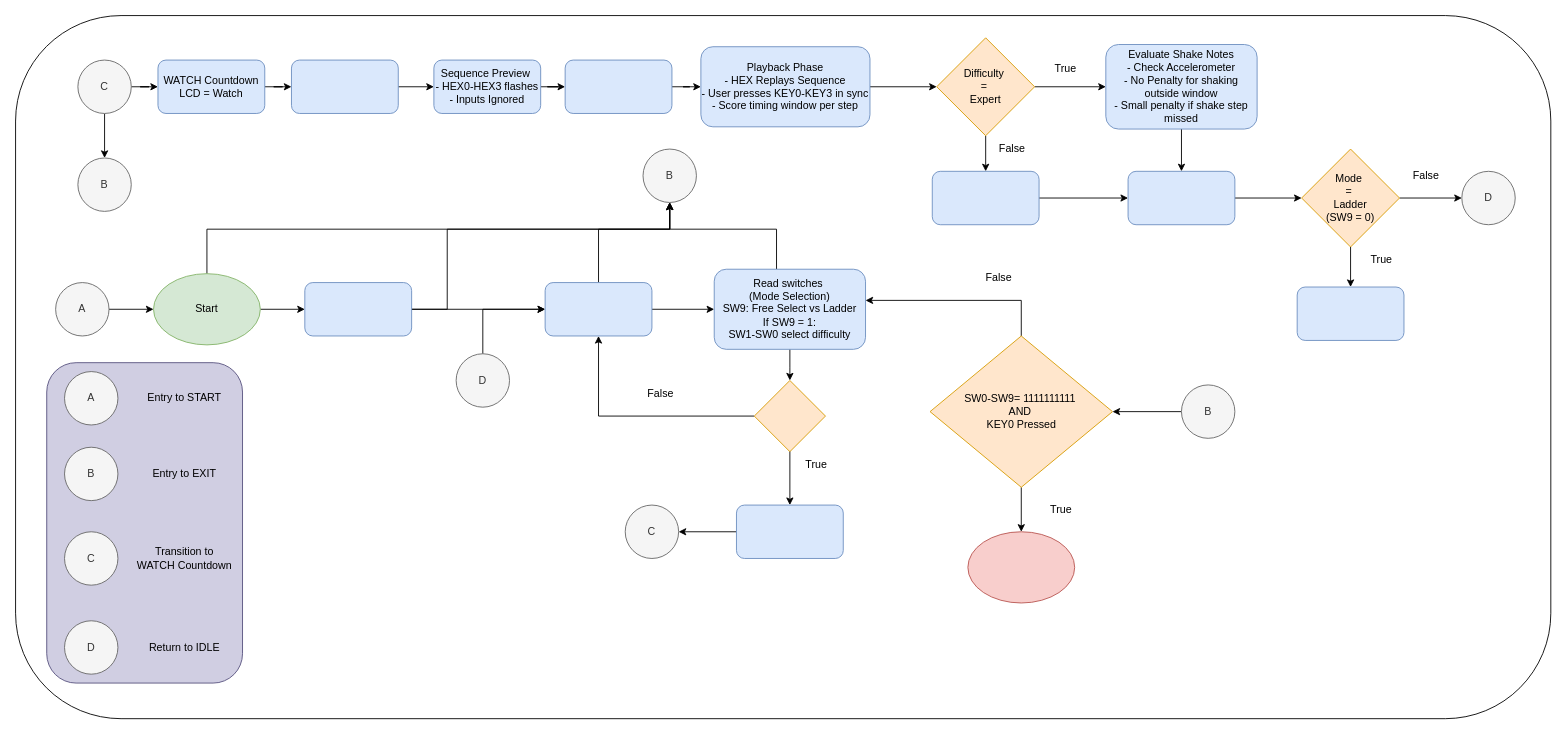
Some shapes in this 1566 by 734 pixel diagram are drawn without their labels. Each missing label, with the box of its shape:
Advance Difficulty: (1296, 286, 1404, 340)
Exit: (967, 531, 1075, 603)
Generate/Load Sequence: (291, 59, 398, 113)
GO Countdown LCD = GO: (564, 59, 672, 113)
Idle Menu: (544, 282, 652, 336)
Initiate Hardware + MMIO Registers: (304, 282, 412, 336)
KEY0 Pressed: (753, 380, 825, 452)
LCD Displays Computed Final Score x/100: (1127, 170, 1235, 225)
Mode/Difficulty Selected: (736, 504, 843, 558)
Skip Shake Evaluation: (931, 170, 1039, 225)
